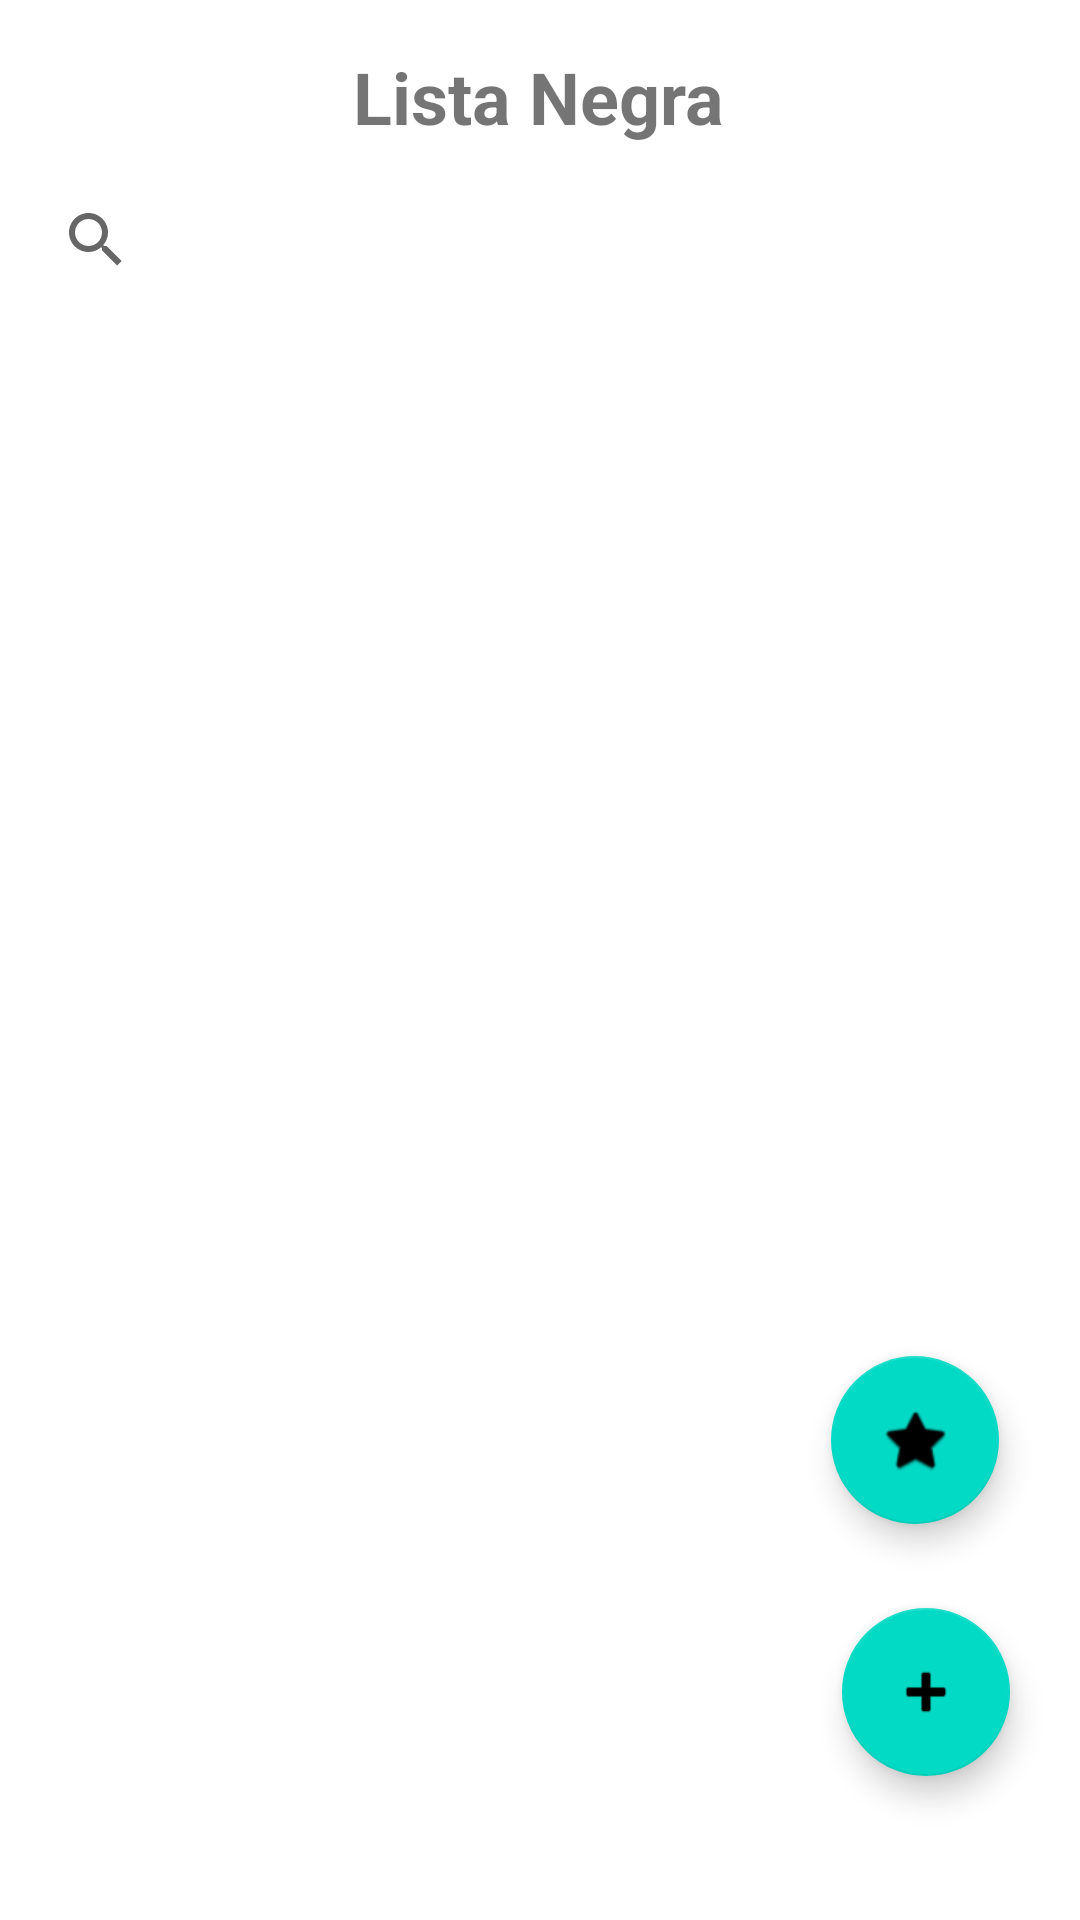

Named icons in this screenshot (1080*1920) and their centers, (x=x, y=y):
add: (x=926, y=1692)
star on: (x=915, y=1440)
